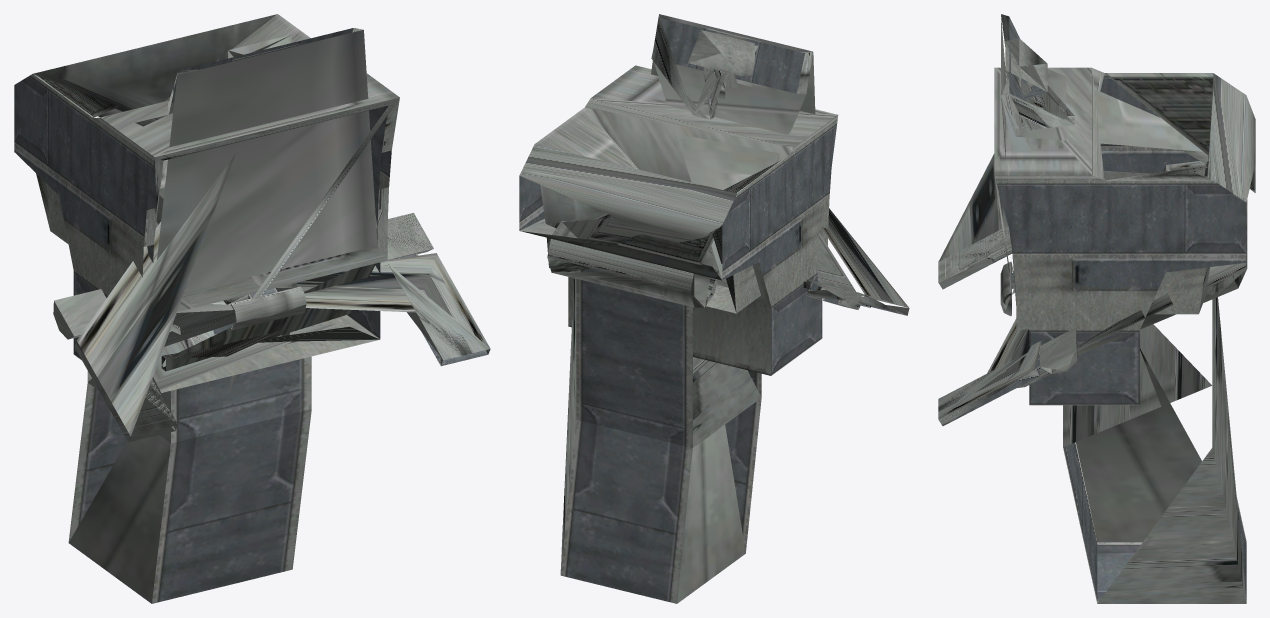
The model's file is ksk_all_travel_l0.fbx.
3 renders of one model, left to right at view 1: azimuth 30°, elevation 25°; view 2: azimuth 150°, elevation 25°; view 3: azimuth 270°, elevation 25°, orthographic. The views are drawn at different scales.
Parts seen in each view (by area): view 1: mesh_node; view 2: mesh_node; view 3: mesh_node.
Part boxes in pixels (x1,y1,x2,y2): mesh_node: [14, 14, 490, 603]; mesh_node: [519, 14, 909, 603]; mesh_node: [938, 14, 1255, 603].
Size of the model in its own units: 1.57 by 2.4 by 1.33.
Materials: 3 (3 with a texture image).
